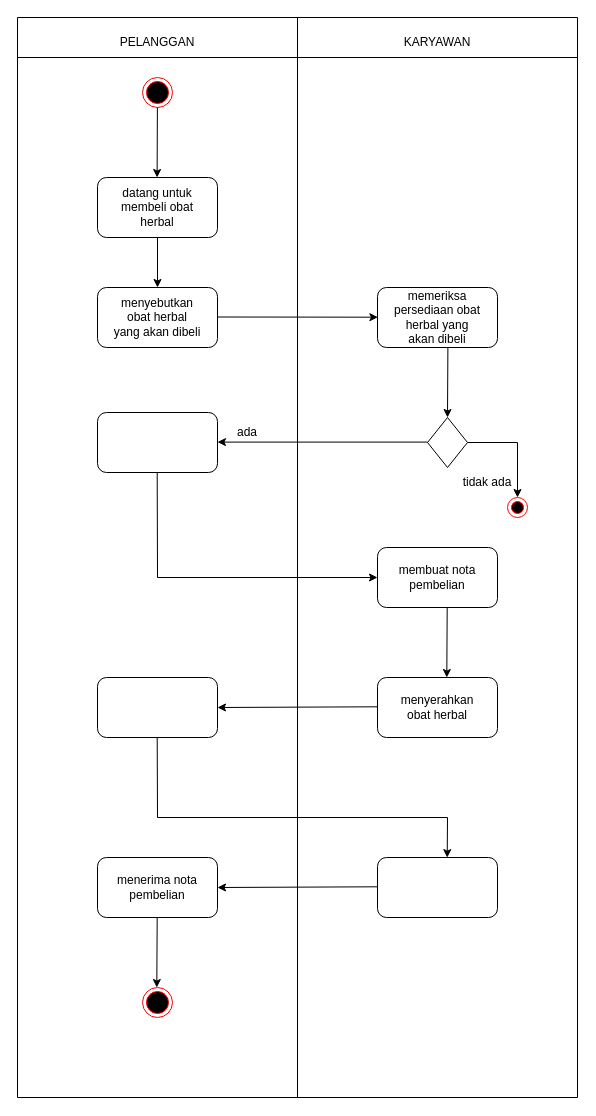
Some shapes in this 596 by 1116 pixel diagram are drawn without their labels. The shapes that lost their labels are listed below. From the top down, each one's box as (x1, y1, x2, y2) in pixels, then its label:
(96, 412, 218, 472): membayar obat herbal yang mau dibeli
(96, 676, 218, 738): menerima obat herbal
(376, 856, 498, 918): menyerahkan nota pembelian
